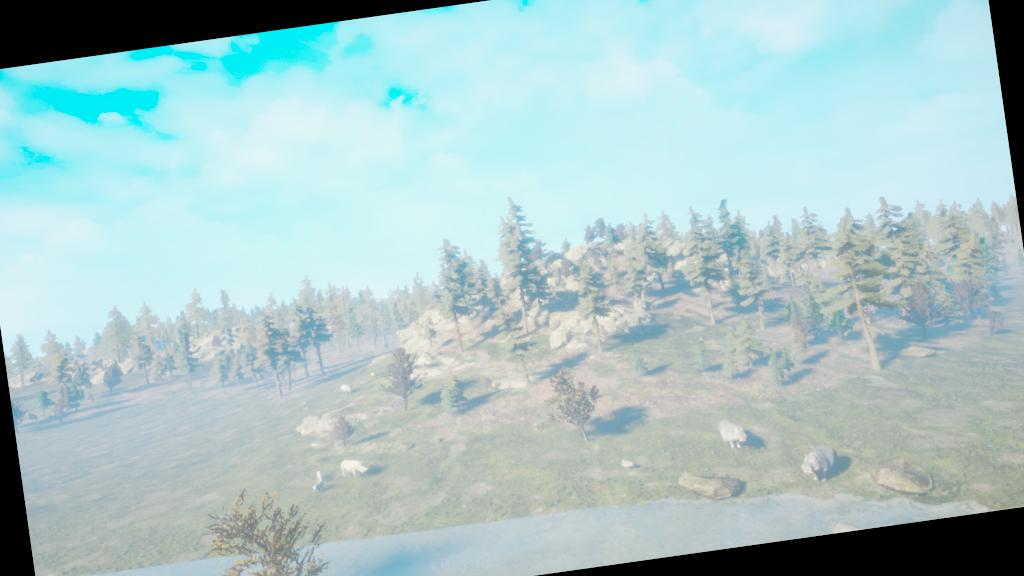hippopotamus: (797, 442, 845, 486), (715, 414, 751, 454)
rhinoceros: (337, 456, 372, 482), (338, 382, 356, 397), (311, 480, 329, 495), (314, 469, 326, 483)
